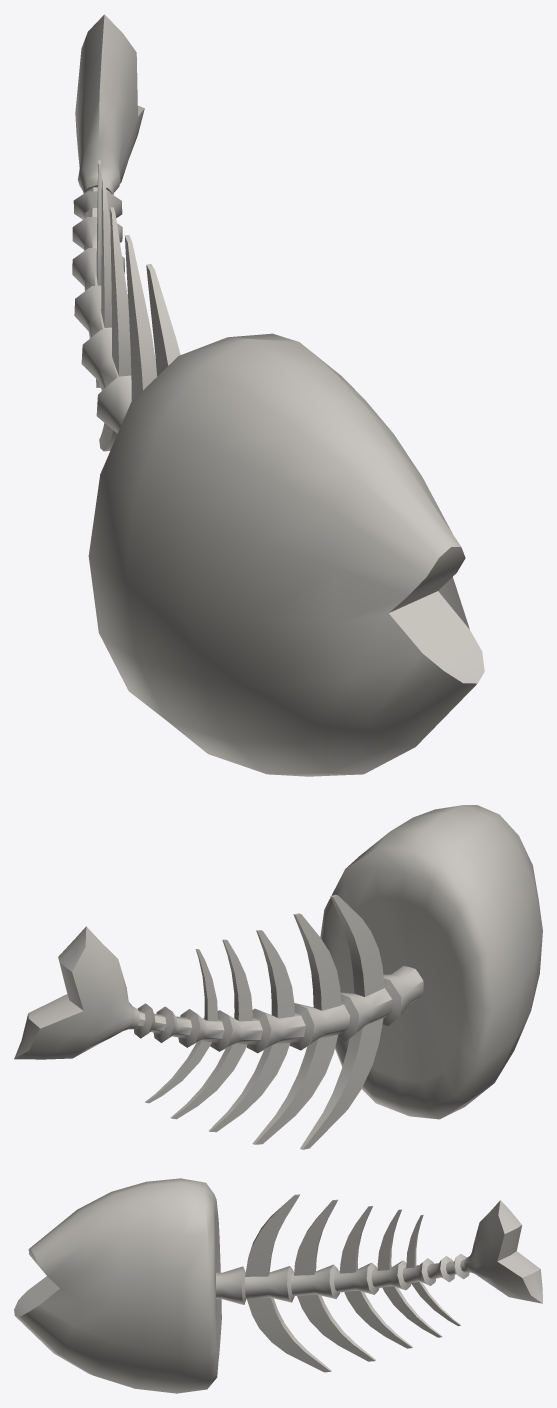
The model's file is Pez_01.fbx.
3 views of the same model, one above another, from view 1: azimuth 30°, elevation 25°; view 2: azimuth 150°, elevation 25°; view 3: azimuth 270°, elevation 25° (orthographic). The views are drawn at different scales.
Visible parts, largest first — view 1: Pez_01; view 2: Pez_01; view 3: Pez_01.
Boxes of the visible parts, x1,y1,x2,y2 form: Pez_01: (72,14,484,776); Pez_01: (14,805,542,1149); Pez_01: (14,1178,542,1393).
Size of the model in its own units: 41.43 by 49.74 by 103.
